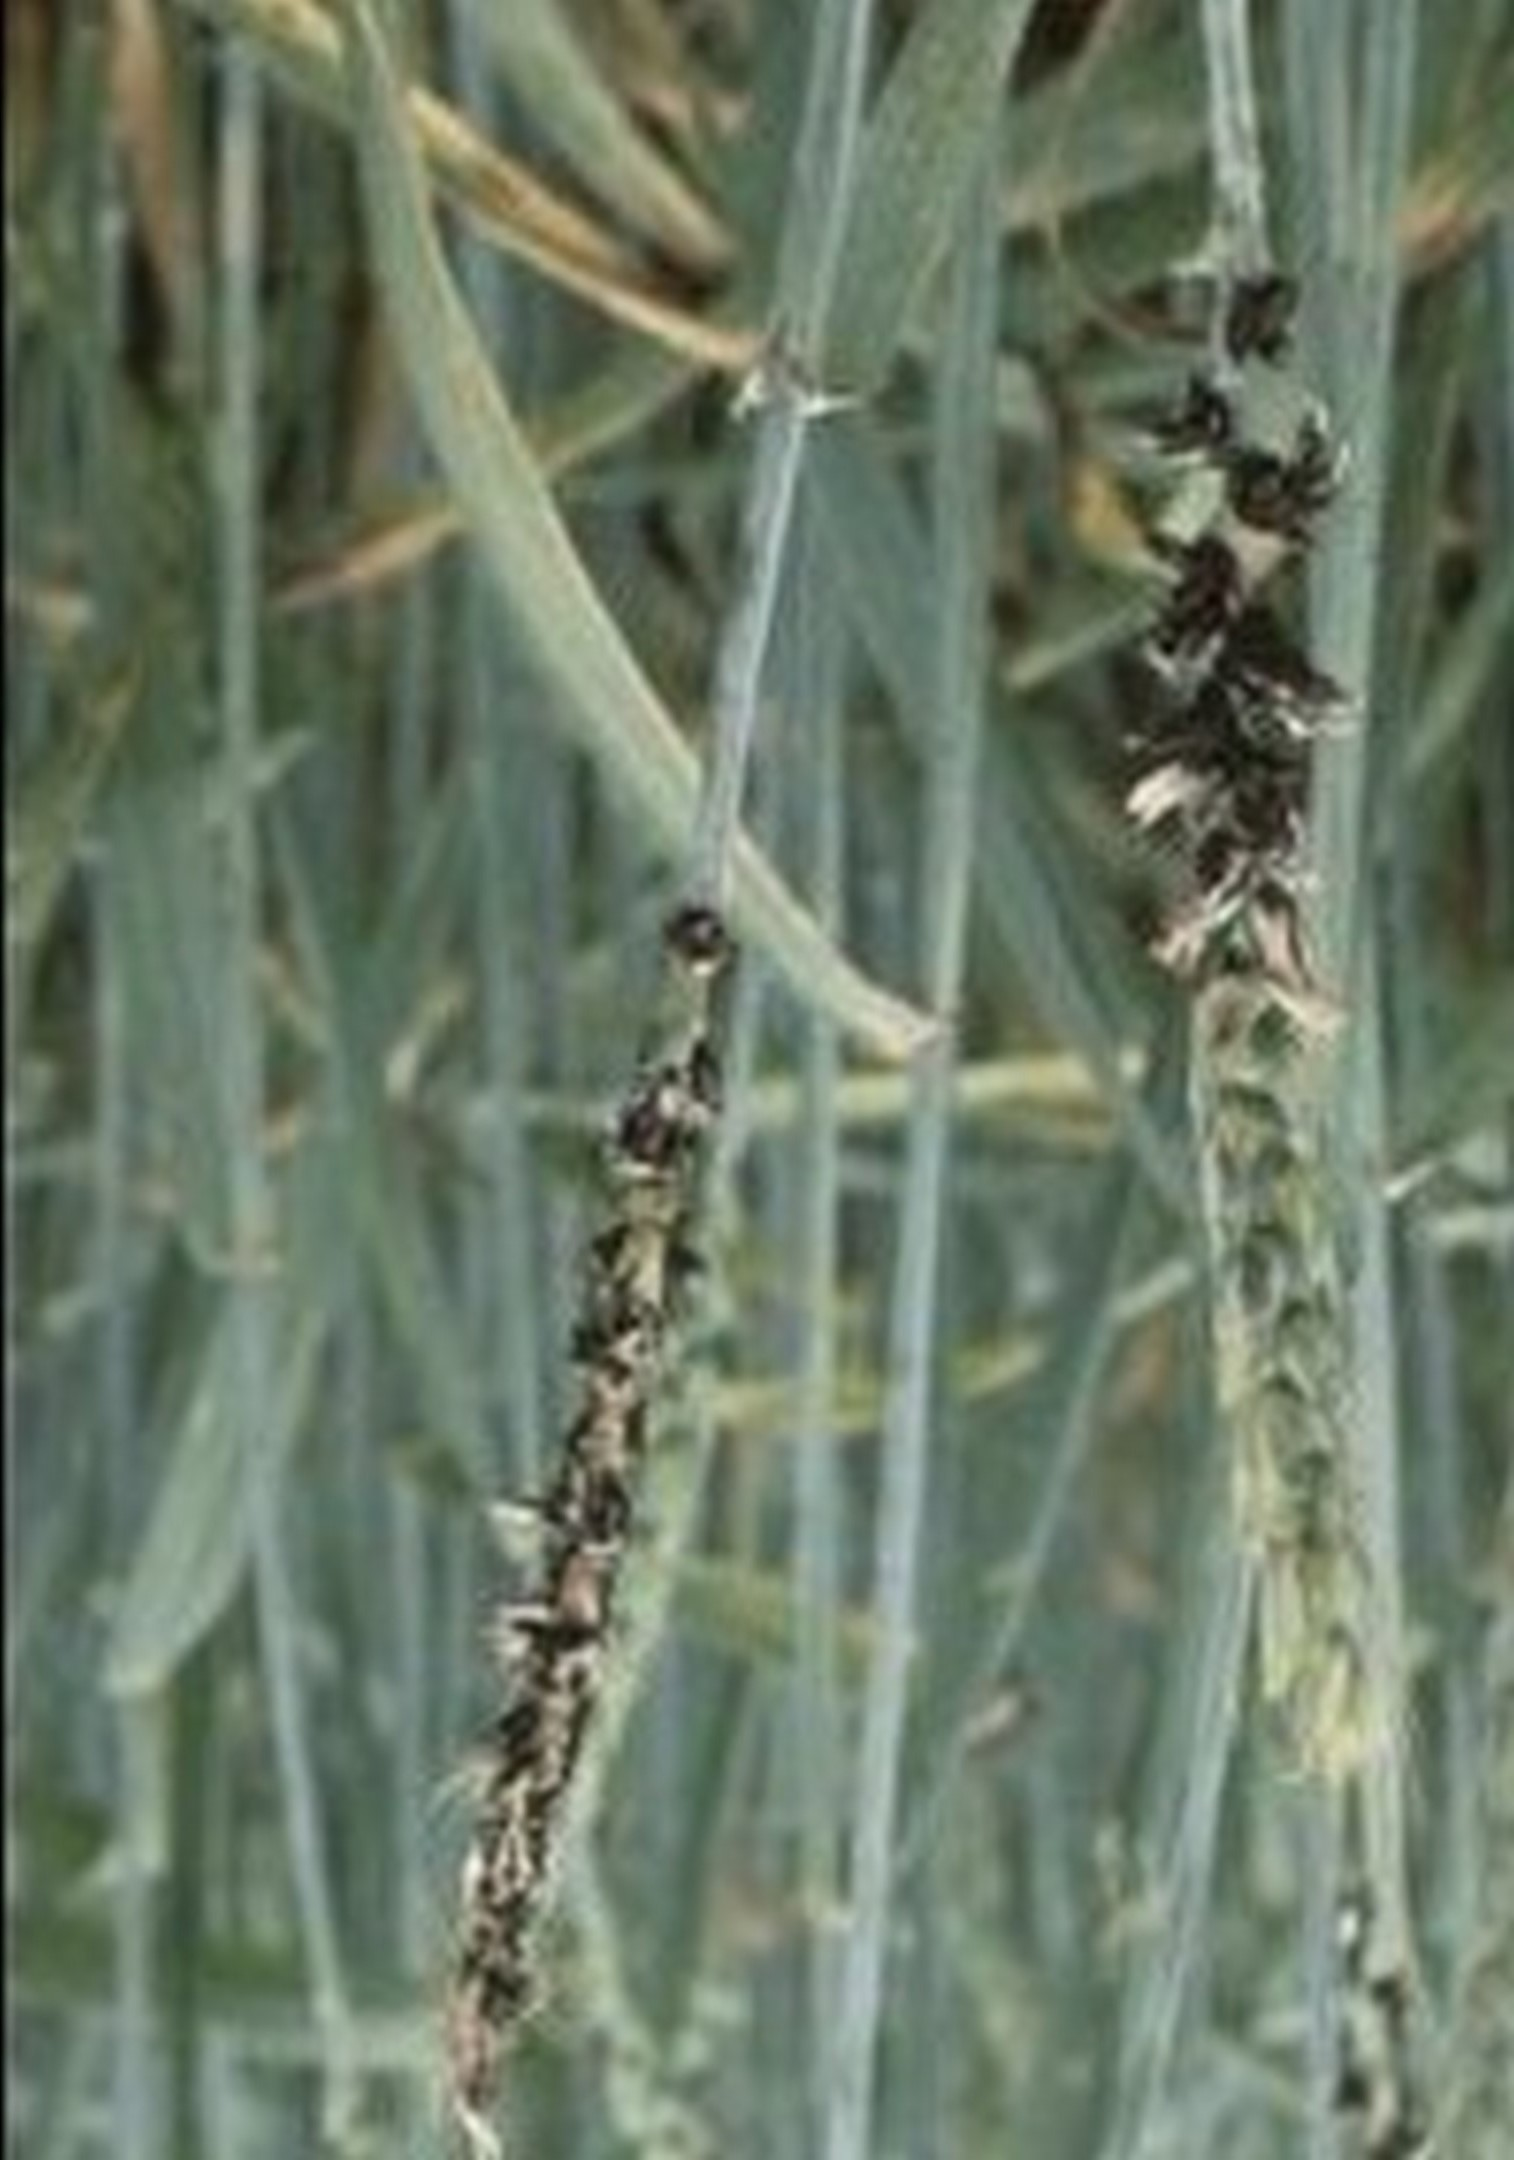Wheat Loose Smut: (447, 982, 778, 2017), (1084, 269, 1409, 1064)
